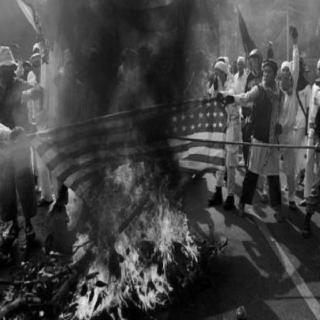Fire: (39, 98, 233, 318)
Smoke: (41, 5, 227, 153)
